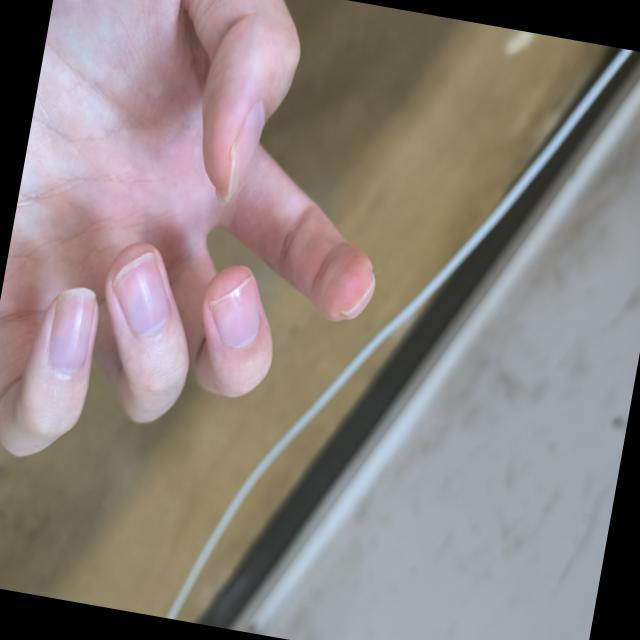Nail: (112, 253, 168, 337), (48, 286, 94, 373), (224, 103, 262, 201), (209, 275, 258, 349), (340, 271, 374, 320)
